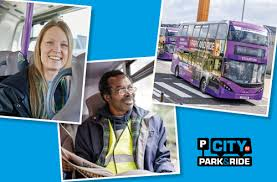bus: (170, 20, 268, 102), (154, 23, 183, 61)
